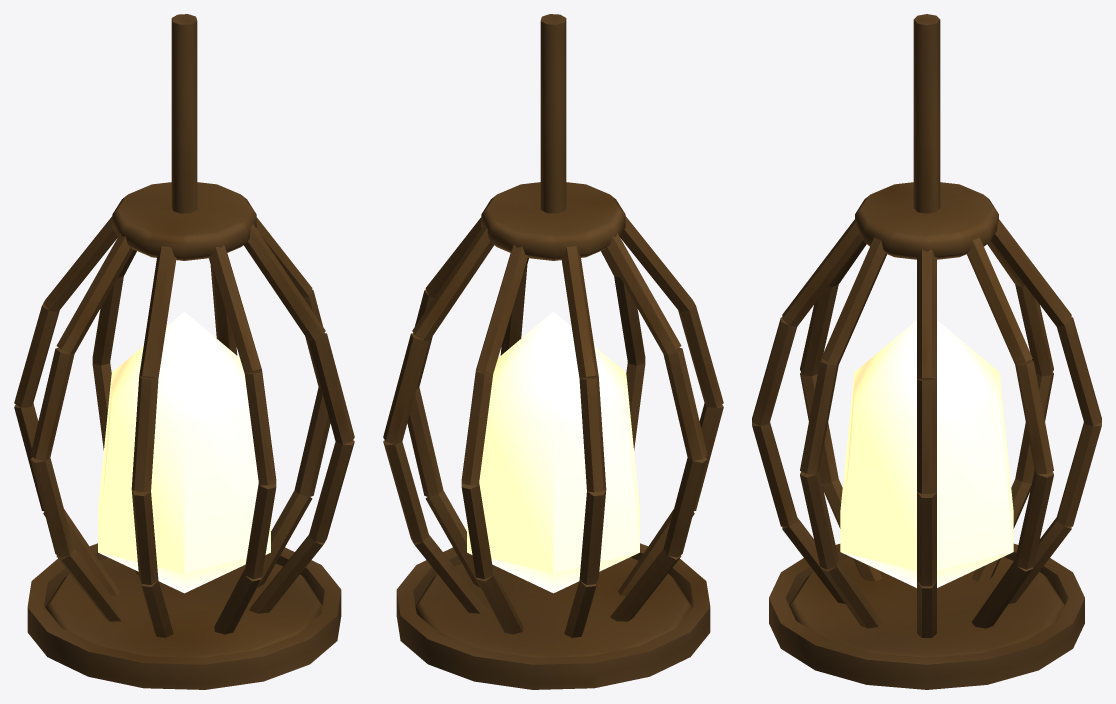
The model's file is Furn_Dress_HangingLamp.fbx.
The picture shows the model from 3 angles, left to right: view 1: azimuth 30°, elevation 25°; view 2: azimuth 150°, elevation 25°; view 3: azimuth 270°, elevation 25°; orthographic projection.
Parts seen in each view (by area): view 1: Furn_Dress_HangingLamp; view 2: Furn_Dress_HangingLamp; view 3: Furn_Dress_HangingLamp.
Part boxes in pixels (bbox=[...]): Furn_Dress_HangingLamp: bbox=[14, 14, 354, 689]; Furn_Dress_HangingLamp: bbox=[383, 14, 723, 689]; Furn_Dress_HangingLamp: bbox=[752, 14, 1101, 689].
Size of the model in its own units: 0.3151 by 0.6044 by 0.3151.
Materials: 2 (1 with a texture image).
